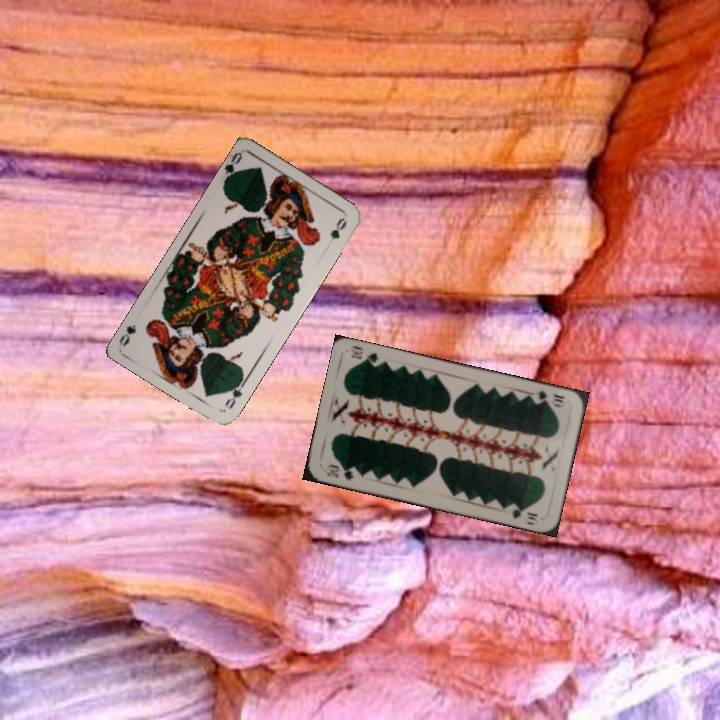G10: (321, 460, 356, 484), (531, 387, 567, 409)
GO: (221, 374, 249, 412), (219, 149, 245, 187)
